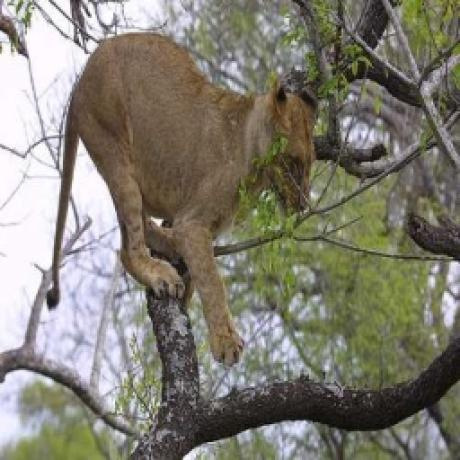Lion: (37, 22, 318, 366)
